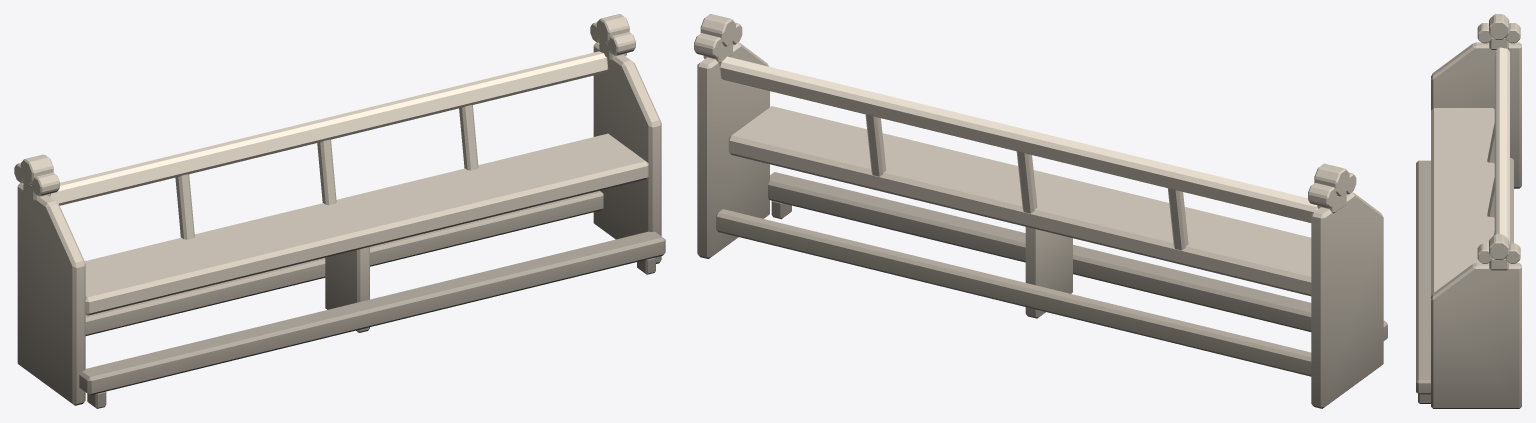
The model's file is SM_VKI_Prop_Pew_300.fbx.
The picture shows the model from 3 angles, left to right: view 1: azimuth 30°, elevation 25°; view 2: azimuth 150°, elevation 25°; view 3: azimuth 270°, elevation 25°; orthographic projection. The views are drawn at different scales.
Parts seen in each view (by area): view 1: SM_VKI_Prop_Pew_300.001; view 2: SM_VKI_Prop_Pew_300.001; view 3: SM_VKI_Prop_Pew_300.001.
Part boxes in pixels (x1,y1,x2,y2): SM_VKI_Prop_Pew_300.001: [14, 14, 665, 408]; SM_VKI_Prop_Pew_300.001: [694, 14, 1387, 408]; SM_VKI_Prop_Pew_300.001: [1416, 14, 1521, 408].
Bounding box in the file's own units: 2.74 × 0.9458 × 0.535.
